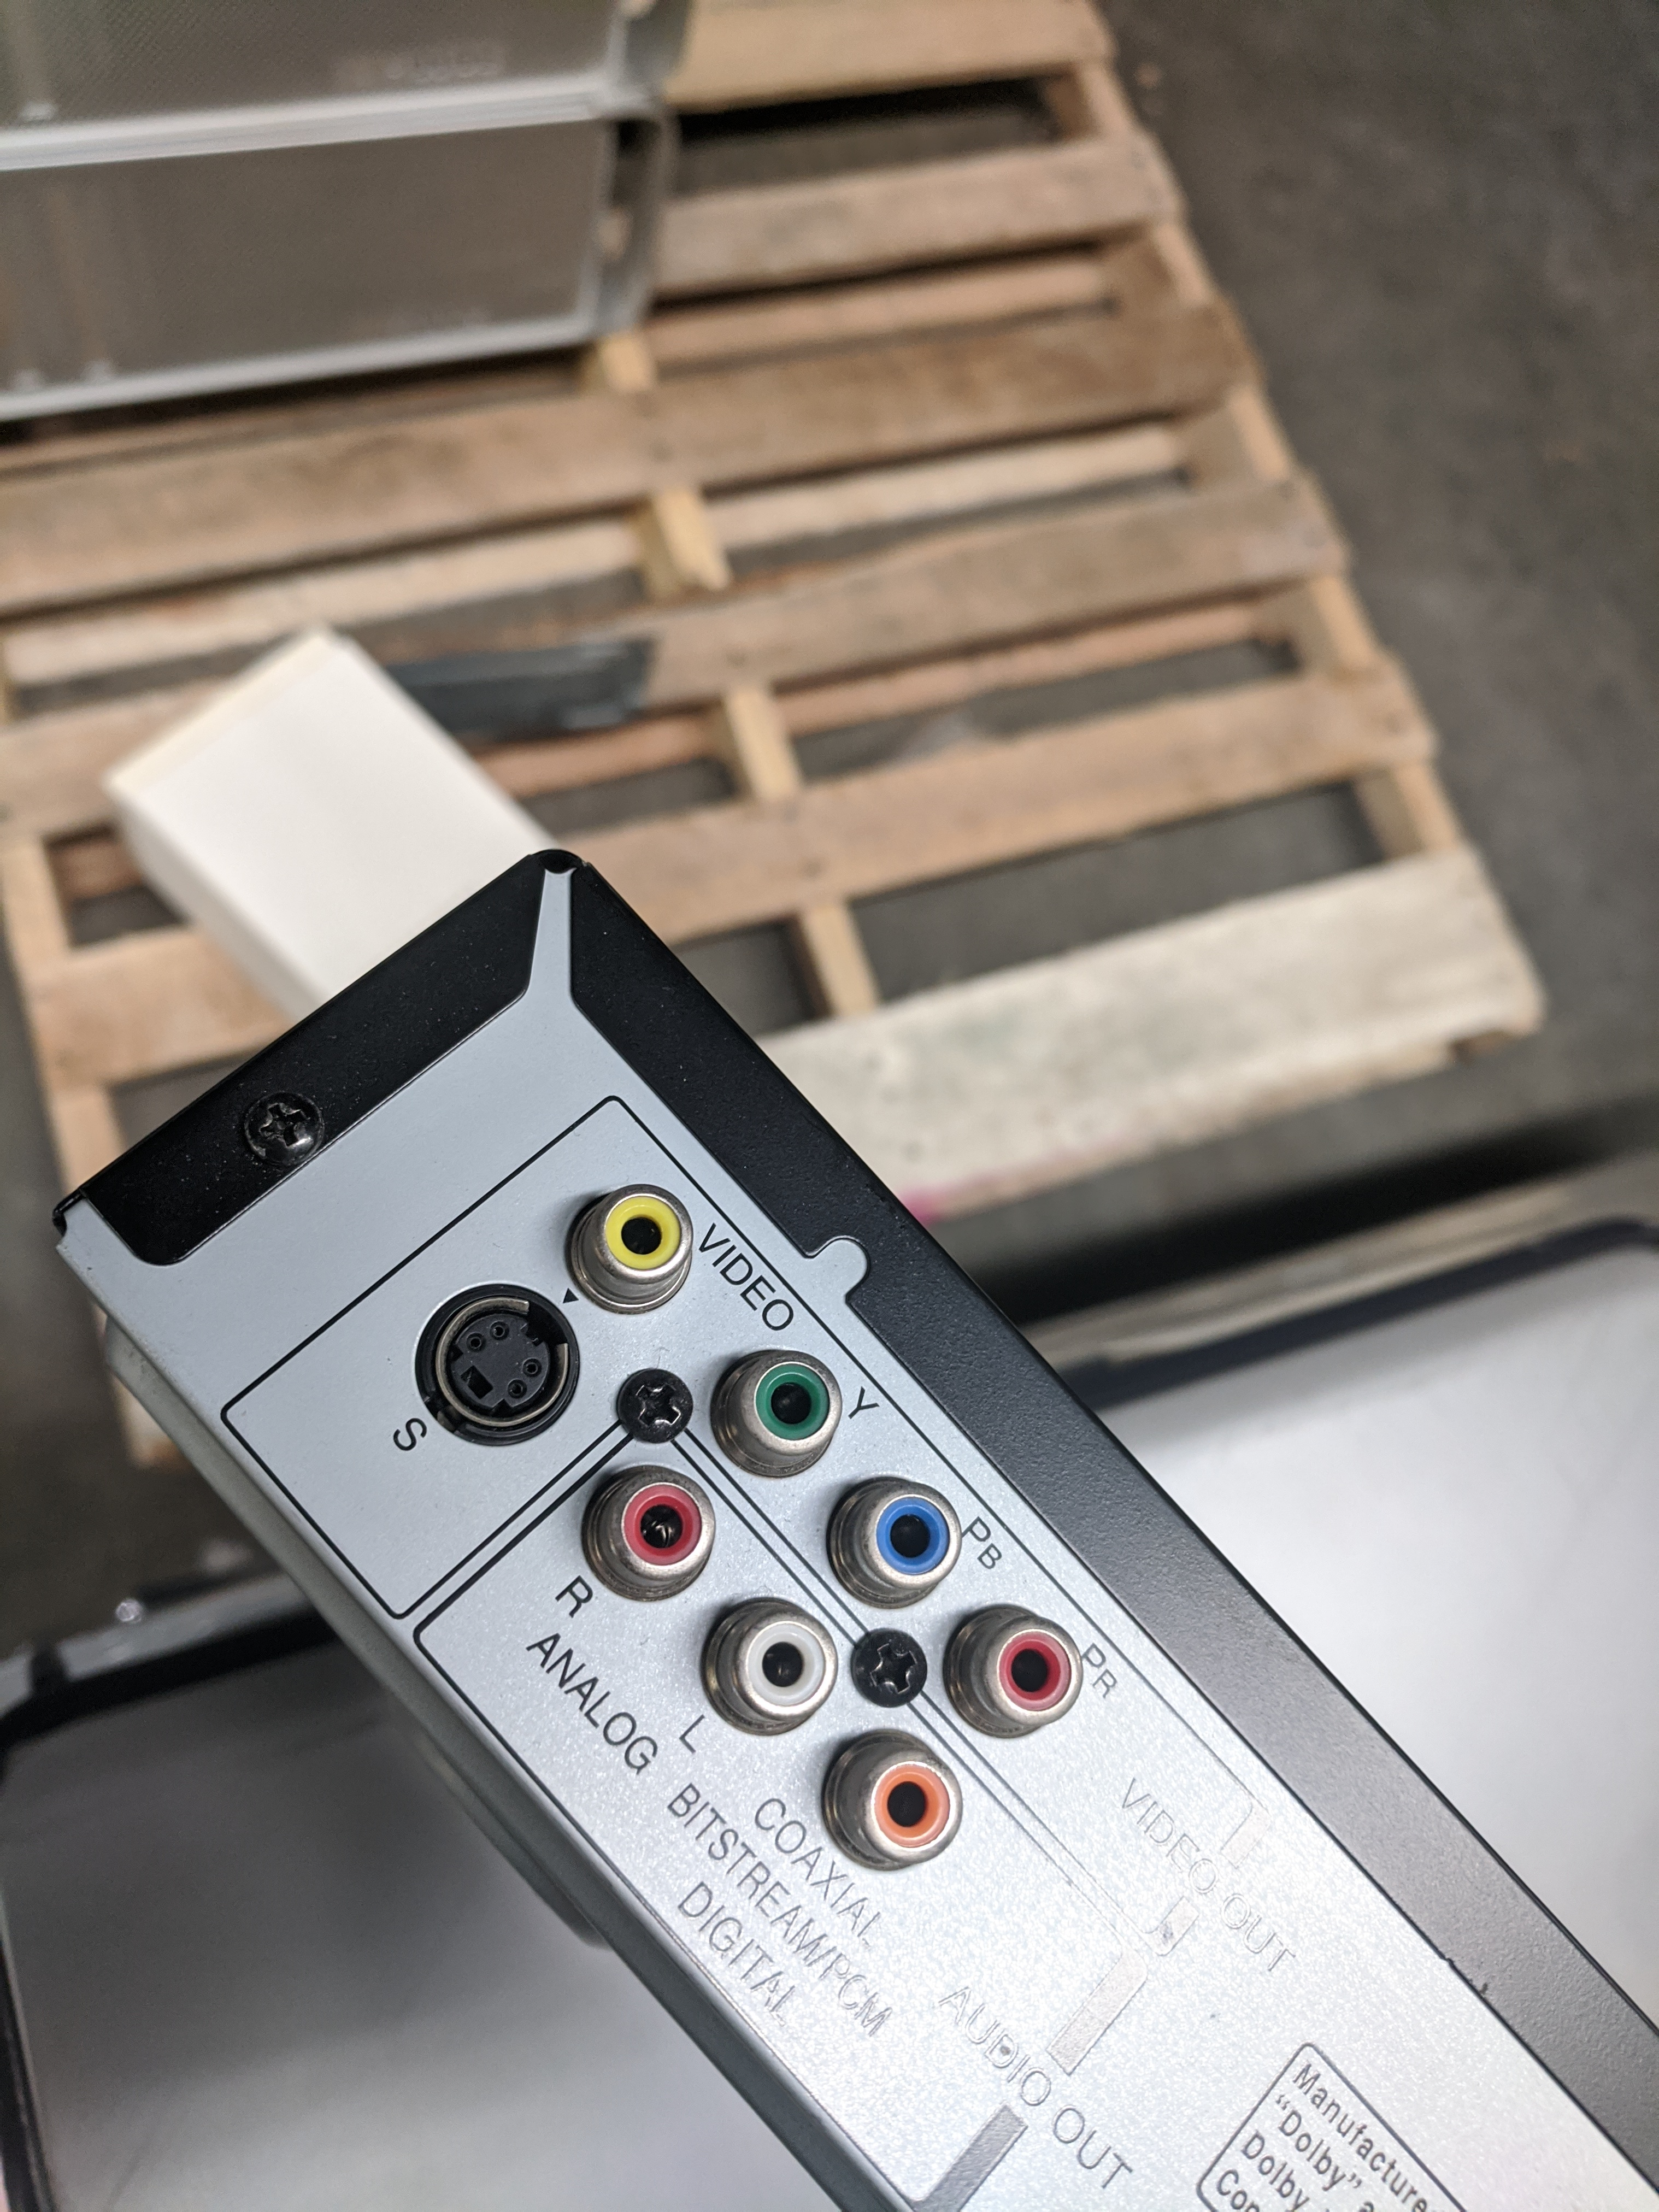cross_recessed_screw: (842, 1609, 929, 1717), (605, 1350, 694, 1449), (237, 1071, 328, 1162)
